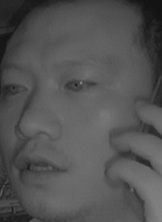eye: (64, 73, 97, 94), (2, 79, 31, 98)
mouth: (13, 146, 71, 185)
